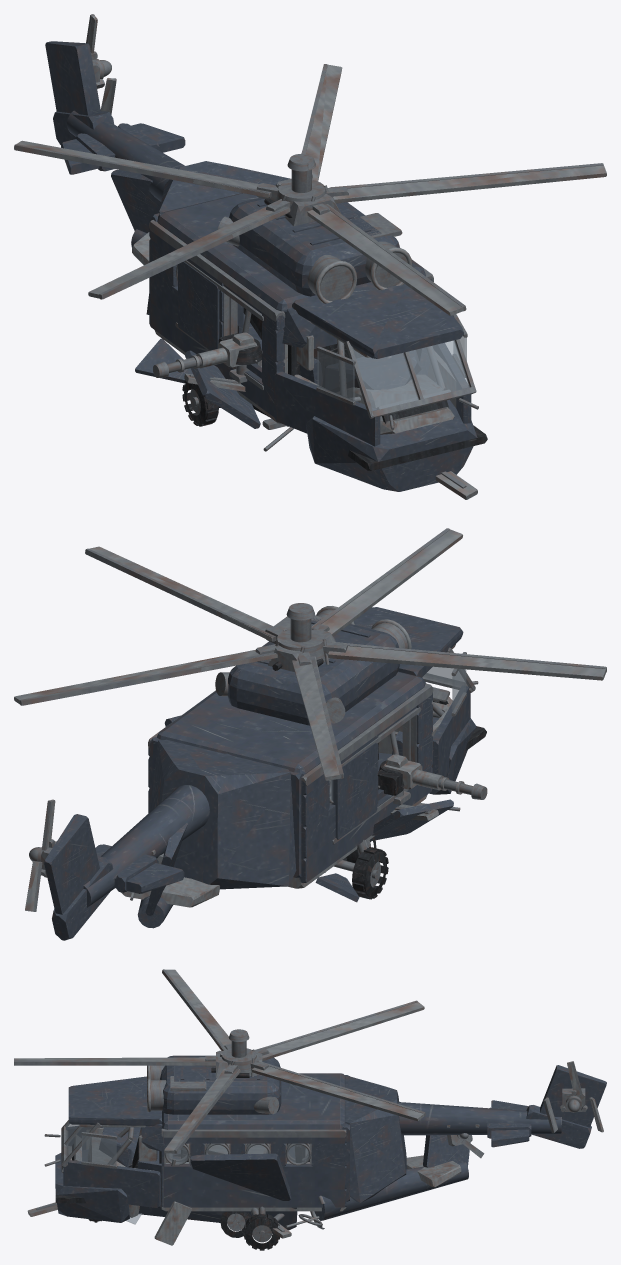
The model's file is helicopter.glb.
The picture shows the model from 3 angles, top to bottom: view 1: azimuth 30°, elevation 25°; view 2: azimuth 150°, elevation 25°; view 3: azimuth 270°, elevation 25°; orthographic projection. The views are drawn at different scales.
Visible parts, largest first — view 1: helicopter_fuselage, rotor_main, helicopter_glazing, wreckage_cabin, helicopter_cockpit, wreckage_debris, wreckage_tail, turret_pitch, wreckage_rotor, rotor_tail, turret_yaw_mesh; view 2: helicopter_fuselage, rotor_main, wreckage_tail, wreckage_debris, turret_pitch, rotor_tail, helicopter_glazing, wreckage_cabin, helicopter_cabin; view 3: helicopter_fuselage, rotor_main, wreckage_cabin, wreckage_tail, helicopter_glazing, wreckage_debris, rotor_tail, helicopter_cockpit, helicopter_cabin, wreckage_rotor.
Boxes of the visible parts, left/top/right/bottom form: helicopter_fuselage: left=45, top=41, right=487, bottom=491; rotor_main: left=14, top=64, right=606, bottom=315; helicopter_glazing: left=177, top=270, right=469, bottom=410; wreckage_cabin: left=219, top=303, right=445, bottom=426; helicopter_cockpit: left=294, top=322, right=456, bottom=434; wreckage_debris: left=135, top=338, right=293, bottom=451; wreckage_tail: left=111, top=170, right=160, bottom=265; turret_pitch: left=153, top=333, right=261, bottom=377; wreckage_rotor: left=184, top=373, right=477, bottom=499; rotor_tail: left=86, top=14, right=116, bottom=114; turret_yaw_mesh: left=230, top=332, right=262, bottom=377; helicopter_fuselage: left=41, top=606, right=486, bottom=940; rotor_main: left=14, top=528, right=606, bottom=780; wreckage_tail: left=121, top=823, right=219, bottom=928; wreckage_debris: left=315, top=799, right=460, bottom=902; turret_pitch: left=377, top=760, right=487, bottom=799; rotor_tail: left=25, top=799, right=55, bottom=911; helicopter_glazing: left=329, top=666, right=467, bottom=800; wreckage_cabin: left=164, top=700, right=444, bottom=872; helicopter_cabin: left=330, top=719, right=410, bottom=798; helicopter_fuselage: left=44, top=1050, right=606, bottom=1250; rotor_main: left=14, top=969, right=425, bottom=1153; wreckage_cabin: left=88, top=1107, right=307, bottom=1237; wreckage_tail: left=310, top=1133, right=484, bottom=1229; helicopter_glazing: left=65, top=1123, right=308, bottom=1165; wreckage_debris: left=154, top=1201, right=322, bottom=1245; rotor_tail: left=543, top=1061, right=603, bottom=1133; helicopter_cockpit: left=61, top=1124, right=157, bottom=1173; helicopter_cabin: left=164, top=1143, right=311, bottom=1163; wreckage_rotor: left=27, top=1202, right=291, bottom=1238.
Size of what is drawn, in the model's own units: 7.49 by 3.54 by 10.27.
2 materials, 1 textured.
